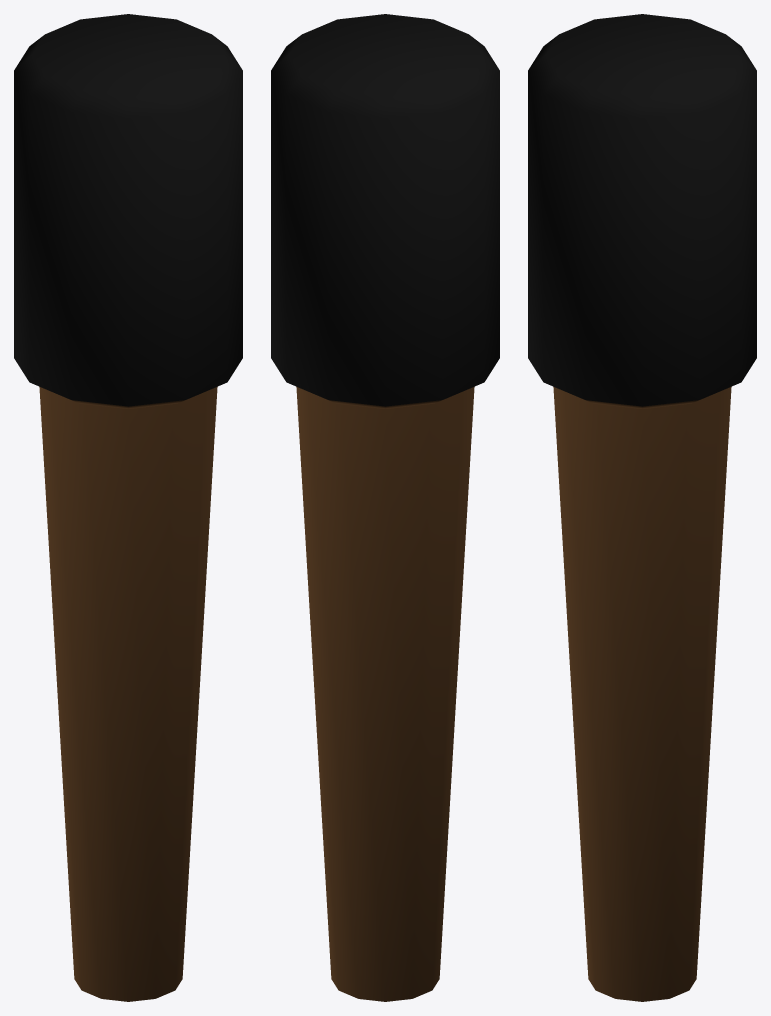
Rendered from torch.glb.
3 renders of one model, left to right at view 1: azimuth 30°, elevation 25°; view 2: azimuth 150°, elevation 25°; view 3: azimuth 270°, elevation 25°, orthographic.
Visible parts, largest first — view 1: Cylinder; view 2: Cylinder; view 3: Cylinder.
Boxes of the visible parts, bbox=[...] form: Cylinder: bbox=[14, 14, 242, 1001]; Cylinder: bbox=[271, 14, 499, 1001]; Cylinder: bbox=[528, 14, 756, 1001].
Bounding box in the file's own units: 0.1173 × 0.5227 × 0.1173.
